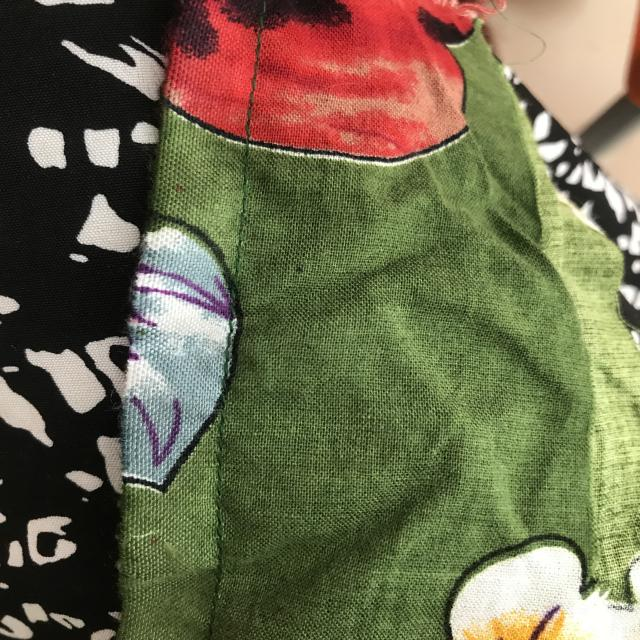good: (204, 430, 244, 523), (237, 40, 276, 120), (229, 172, 255, 245)
